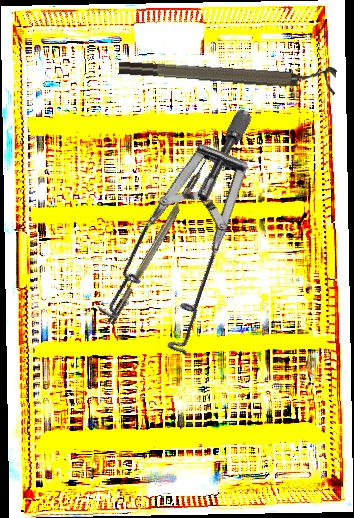Chopper: (98, 144, 217, 326)
Fixation Ring: (118, 48, 337, 97)
Speculum: (48, 105, 341, 383)
